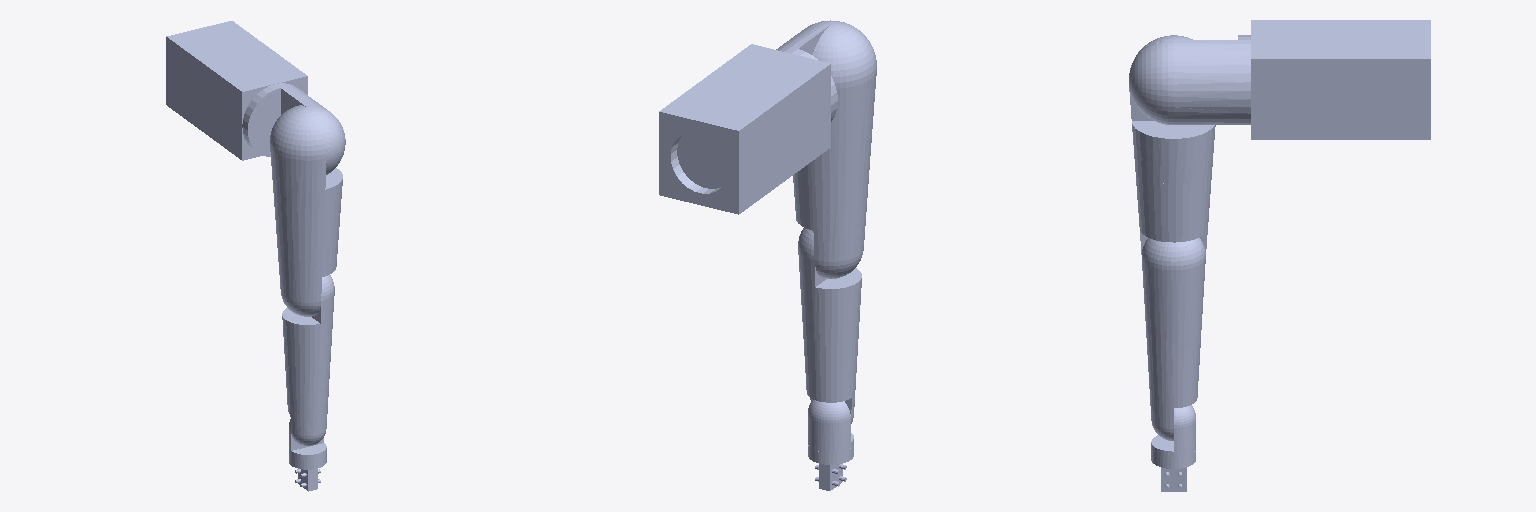
URDF robot description (2robot7dofRightArm):
<robot
  name="2robot7dofRightArm">
  <link
    name="base_link">
    <inertial>
      <origin
        xyz="0 0 0"
        rpy="0 0 0" />
      <mass
        value="2" />
      <inertia
        ixx="0.1"
        ixy="0"
        ixz="0"
        iyy="0.1"
        iyz="0"
        izz="0.1" />
    </inertial>
    <visual>
      <origin
        xyz="0 0 0"
        rpy="0 0 0" />
      <geometry>
        <mesh
          filename="package://2robot7dofRightArm/meshes/base_link.STL" />
      </geometry>
      <material
        name="">
        <color
          rgba="0.79216 0.81961 0.93333 1" />
      </material>
    </visual>
    <collision>
      <origin
        xyz="0 0 0"
        rpy="0 0 0" />
      <geometry>
        <mesh
          filename="package://2robot7dofRightArm/meshes/base_link.STL" />
      </geometry>
    </collision>
  </link>
  <link
    name="link1">
    <inertial>
      <origin
        xyz="0 0.015 0.095087"
        rpy="0 0 0" />
      <mass
        value="0.9" />
      <inertia
        ixx="0.01"
        ixy="0"
        ixz="0"
        iyy="0.01"
        iyz="0"
        izz="0.01" />
    </inertial>
    <visual>
      <origin
        xyz="0 0 0"
        rpy="0 0 0" />
      <geometry>
        <mesh
          filename="package://2robot7dofRightArm/meshes/link1.STL" />
      </geometry>
      <material
        name="">
        <color
          rgba="0.79216 0.81961 0.93333 1" />
      </material>
    </visual>
    <collision>
      <origin
        xyz="0 0 0"
        rpy="0 0 0" />
      <geometry>
        <mesh
          filename="package://2robot7dofRightArm/meshes/link1.STL" />
      </geometry>
    </collision>
  </link>
  <joint
    name="joint1"
    type="revolute">
    <origin
      xyz="0 -0.12 0"
      rpy="1.5708 1.5708 0" />
    <parent
      link="base_link" />
    <child
      link="link1" />
    <axis
      xyz="0 0 1" />
    <limit
      lower="-3.14"
      upper="3.14"
      effort="0"
      velocity="0" />
    <safety_controller
      soft_upper="3.14"
      soft_lower="-3.14"
      k_position="2"
      k_velocity="2" />
  </joint>
  <link
    name="link2">
    <inertial>
      <origin
        xyz="0.080412 -0.010907 0"
        rpy="0 0 0" />
      <mass
        value="0.9" />
      <inertia
        ixx="0.01"
        ixy="0"
        ixz="0"
        iyy="0.01"
        iyz="0"
        izz="0.01" />
    </inertial>
    <visual>
      <origin
        xyz="0 0 0"
        rpy="0 0 0" />
      <geometry>
        <mesh
          filename="package://2robot7dofRightArm/meshes/link2.STL" />
      </geometry>
      <material
        name="">
        <color
          rgba="0.79216 0.81961 0.93333 1" />
      </material>
    </visual>
    <collision>
      <origin
        xyz="0 0 0"
        rpy="0 0 0" />
      <geometry>
        <mesh
          filename="package://2robot7dofRightArm/meshes/link2.STL" />
      </geometry>
    </collision>
  </link>
  <joint
    name="joint2"
    type="revolute">
    <origin
      xyz="0 0 0.14"
      rpy="0 0 0" />
    <parent
      link="link1" />
    <child
      link="link2" />
    <axis
      xyz="0 1 0" />
    <limit
      lower="-3.14"
      upper="3.14"
      effort="0"
      velocity="0" />
    <safety_controller
      soft_upper="3.14"
      soft_lower="-3.14"
      k_position="2"
      k_velocity="2" />
  </joint>
  <link
    name="link3">
    <inertial>
      <origin
        xyz="0.08484 -0.004285 0"
        rpy="0 0 0" />
      <mass
        value="0.9" />
      <inertia
        ixx="0.01"
        ixy="0"
        ixz="0"
        iyy="0.01"
        iyz="0"
        izz="0.01" />
    </inertial>
    <visual>
      <origin
        xyz="0 0 0"
        rpy="0 0 0" />
      <geometry>
        <mesh
          filename="package://2robot7dofRightArm/meshes/link3.STL" />
      </geometry>
      <material
        name="">
        <color
          rgba="0.79216 0.81961 0.93333 1" />
      </material>
    </visual>
    <collision>
      <origin
        xyz="0 0 0"
        rpy="0 0 0" />
      <geometry>
        <mesh
          filename="package://2robot7dofRightArm/meshes/link3.STL" />
      </geometry>
    </collision>
  </link>
  <joint
    name="joint3"
    type="revolute">
    <origin
      xyz="0.15 0 0"
      rpy="0 0 0" />
    <parent
      link="link2" />
    <child
      link="link3" />
    <axis
      xyz="1 0 0" />
    <limit
      lower="-3.14"
      upper="3.14"
      effort="0"
      velocity="0" />
    <safety_controller
      soft_upper="3.14"
      soft_lower="-3.14"
      k_position="2"
      k_velocity="2" />
  </joint>
  <link
    name="link4">
    <inertial>
      <origin
        xyz="0.076515 0.0058602 0"
        rpy="0 0 0" />
      <mass
        value="0.7" />
      <inertia
        ixx="0.01"
        ixy="0"
        ixz="0"
        iyy="0.01"
        iyz="0"
        izz="0.01" />
    </inertial>
    <visual>
      <origin
        xyz="0 0 0"
        rpy="0 0 0" />
      <geometry>
        <mesh
          filename="package://2robot7dofRightArm/meshes/link4.STL" />
      </geometry>
      <material
        name="">
        <color
          rgba="0.79216 0.81961 0.93333 1" />
      </material>
    </visual>
    <collision>
      <origin
        xyz="0 0 0"
        rpy="0 0 0" />
      <geometry>
        <mesh
          filename="package://2robot7dofRightArm/meshes/link4.STL" />
      </geometry>
    </collision>
  </link>
  <joint
    name="joint4"
    type="revolute">
    <origin
      xyz="0.15 0 0"
      rpy="0 0 0" />
    <parent
      link="link3" />
    <child
      link="link4" />
    <axis
      xyz="0 1 0" />
    <limit
      lower="-3.14"
      upper="3.14"
      effort="0"
      velocity="0" />
    <safety_controller
      soft_upper="3.14"
      soft_lower="-3.14"
      k_position="2"
      k_velocity="2" />
  </joint>
  <link
    name="link5">
    <inertial>
      <origin
        xyz="0.076681 1.5201E-16 0.0023115"
        rpy="0 0 0" />
      <mass
        value="0.7" />
      <inertia
        ixx="0.01"
        ixy="0"
        ixz="0"
        iyy="0.01"
        iyz="0"
        izz="0.01" />
    </inertial>
    <visual>
      <origin
        xyz="0 0 0"
        rpy="0 0 0" />
      <geometry>
        <mesh
          filename="package://2robot7dofRightArm/meshes/link5.STL" />
      </geometry>
      <material
        name="">
        <color
          rgba="0.79216 0.81961 0.93333 1" />
      </material>
    </visual>
    <collision>
      <origin
        xyz="0 0 0"
        rpy="0 0 0" />
      <geometry>
        <mesh
          filename="package://2robot7dofRightArm/meshes/link5.STL" />
      </geometry>
    </collision>
  </link>
  <joint
    name="joint5"
    type="revolute">
    <origin
      xyz="0.14 0 0"
      rpy="0 0 0" />
    <parent
      link="link4" />
    <child
      link="link5" />
    <axis
      xyz="1 0 0" />
    <limit
      lower="-3.14"
      upper="3.14"
      effort="0"
      velocity="0" />
    <safety_controller
      soft_upper="3.14"
      soft_lower="-3.14"
      k_position="2"
      k_velocity="2" />
  </joint>
  <link
    name="link6">
    <inertial>
      <origin
        xyz="0.025545 -4.2067E-16 -0.0096823"
        rpy="0 0 0" />
      <mass
        value="0.14" />
      <inertia
        ixx="0.01"
        ixy="0"
        ixz="0"
        iyy="0.01"
        iyz="0"
        izz="0.01" />
    </inertial>
    <visual>
      <origin
        xyz="0 0 0"
        rpy="0 0 0" />
      <geometry>
        <mesh
          filename="package://2robot7dofRightArm/meshes/link6.STL" />
      </geometry>
      <material
        name="">
        <color
          rgba="0.79216 0.81961 0.93333 1" />
      </material>
    </visual>
    <collision>
      <origin
        xyz="0 0 0"
        rpy="0 0 0" />
      <geometry>
        <mesh
          filename="package://2robot7dofRightArm/meshes/link6.STL" />
      </geometry>
    </collision>
  </link>
  <joint
    name="joint6"
    type="revolute">
    <origin
      xyz="0.14 0 0"
      rpy="0 0 0" />
    <parent
      link="link5" />
    <child
      link="link6" />
    <axis
      xyz="0 0 1" />
    <limit
      lower="-3.14"
      upper="3.14"
      effort="0"
      velocity="0" />
    <safety_controller
      soft_upper="3.14"
      soft_lower="-3.14"
      k_position="2"
      k_velocity="2" />
  </joint>
  <link
    name="link7">
    <inertial>
      <origin
        xyz="0.026219 4.8139E-16 -3.8858E-16"
        rpy="0 0 0" />
      <mass
        value="0.14" />
      <inertia
        ixx="0.01"
        ixy="0"
        ixz="0"
        iyy="0.01"
        iyz="0"
        izz="0.01" />
    </inertial>
    <visual>
      <origin
        xyz="0 0 0"
        rpy="0 0 0" />
      <geometry>
        <mesh
          filename="package://2robot7dofRightArm/meshes/link7.STL" />
      </geometry>
      <material
        name="">
        <color
          rgba="0.79216 0.81961 0.93333 1" />
      </material>
    </visual>
    <collision>
      <origin
        xyz="0 0 0"
        rpy="0 0 0" />
      <geometry>
        <mesh
          filename="package://2robot7dofRightArm/meshes/link7.STL" />
      </geometry>
    </collision>
  </link>
  <joint
    name="joint7"
    type="revolute">
    <origin
      xyz="0.05 0 0"
      rpy="0 0 0" />
    <parent
      link="link6" />
    <child
      link="link7" />
    <axis
      xyz="1 0 0" />
    <limit
      lower="-3.14"
      upper="3.14"
      effort="0"
      velocity="0" />
    <safety_controller
      soft_upper="3.14"
      soft_lower="-3.14"
      k_position="2"
      k_velocity="2" />
  </joint>
</robot>

--- Facts derived from the render (not from the file) ---
Views: 3 orthographic renders of the robot side by side, from view 1: azimuth 30°, elevation 25°; view 2: azimuth 150°, elevation 25°; view 3: azimuth 270°, elevation 25°.
Model 2robot7dofRightArm with 8 links and 7 joints (7 revolute), rooted at base_link, posed all joints at 0.
Visible links, largest first — view 1: base_link, link2, link3, link1, link5, link4, link7, link6; view 2: base_link, link2, link3, link4, link5, link6, link7, link1; view 3: base_link, link1, link4, link2, link3, link5, link6, link7.
Boxes of the visible links, box(x1,y1,x2,y2) form: base_link: box(166, 21, 307, 160); link2: box(270, 105, 342, 229); link3: box(275, 218, 339, 316); link1: box(242, 83, 345, 174); link5: box(285, 360, 330, 445); link4: box(282, 275, 334, 367); link7: box(289, 453, 326, 491); link6: box(289, 419, 326, 459); base_link: box(659, 44, 830, 214); link2: box(804, 22, 876, 172); link3: box(793, 160, 869, 278); link4: box(798, 228, 861, 341); link5: box(803, 332, 858, 423); link6: box(808, 400, 853, 452); link7: box(808, 445, 853, 490); link1: box(776, 20, 839, 121); base_link: box(1251, 20, 1430, 139); link1: box(1129, 35, 1250, 124); link4: box(1142, 238, 1205, 348); link2: box(1129, 35, 1215, 183); link3: box(1135, 169, 1211, 254); link5: box(1146, 337, 1200, 440); link6: box(1151, 405, 1195, 456); link7: box(1151, 449, 1195, 491).
Bounding box of the posed robot: 0.14 × 0.47 × 0.7702 m (x, y, z).
8 mesh visuals loaded from 8 distinct referenced files (8 binary STL).